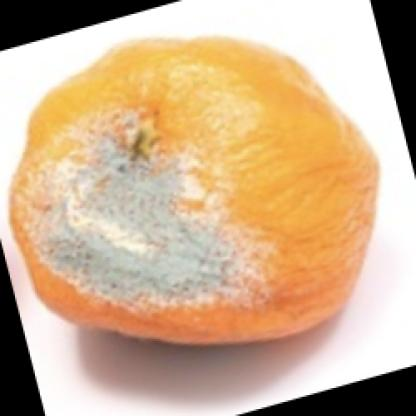rotten: (13, 36, 377, 345)
